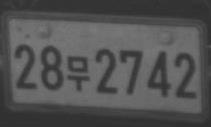2: (173, 51, 198, 100), (93, 48, 118, 94), (13, 43, 37, 89)
4: (146, 51, 172, 97)
7: (119, 48, 144, 96)
8: (39, 45, 64, 91)
무: (66, 54, 91, 92)
